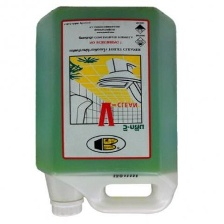cleaning_solution: (33, 4, 179, 218)
